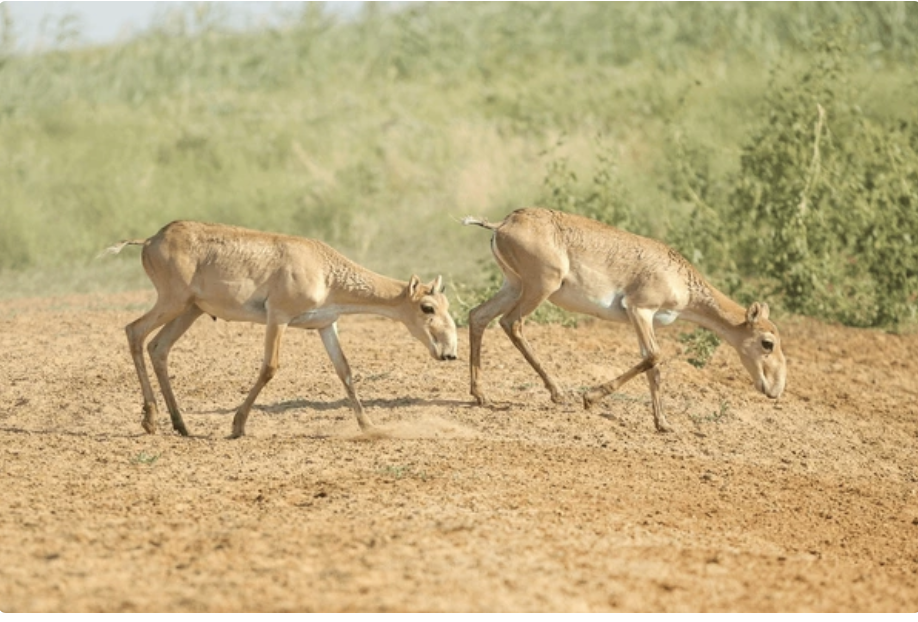saiga: (113, 223, 459, 457), (461, 198, 796, 436)
